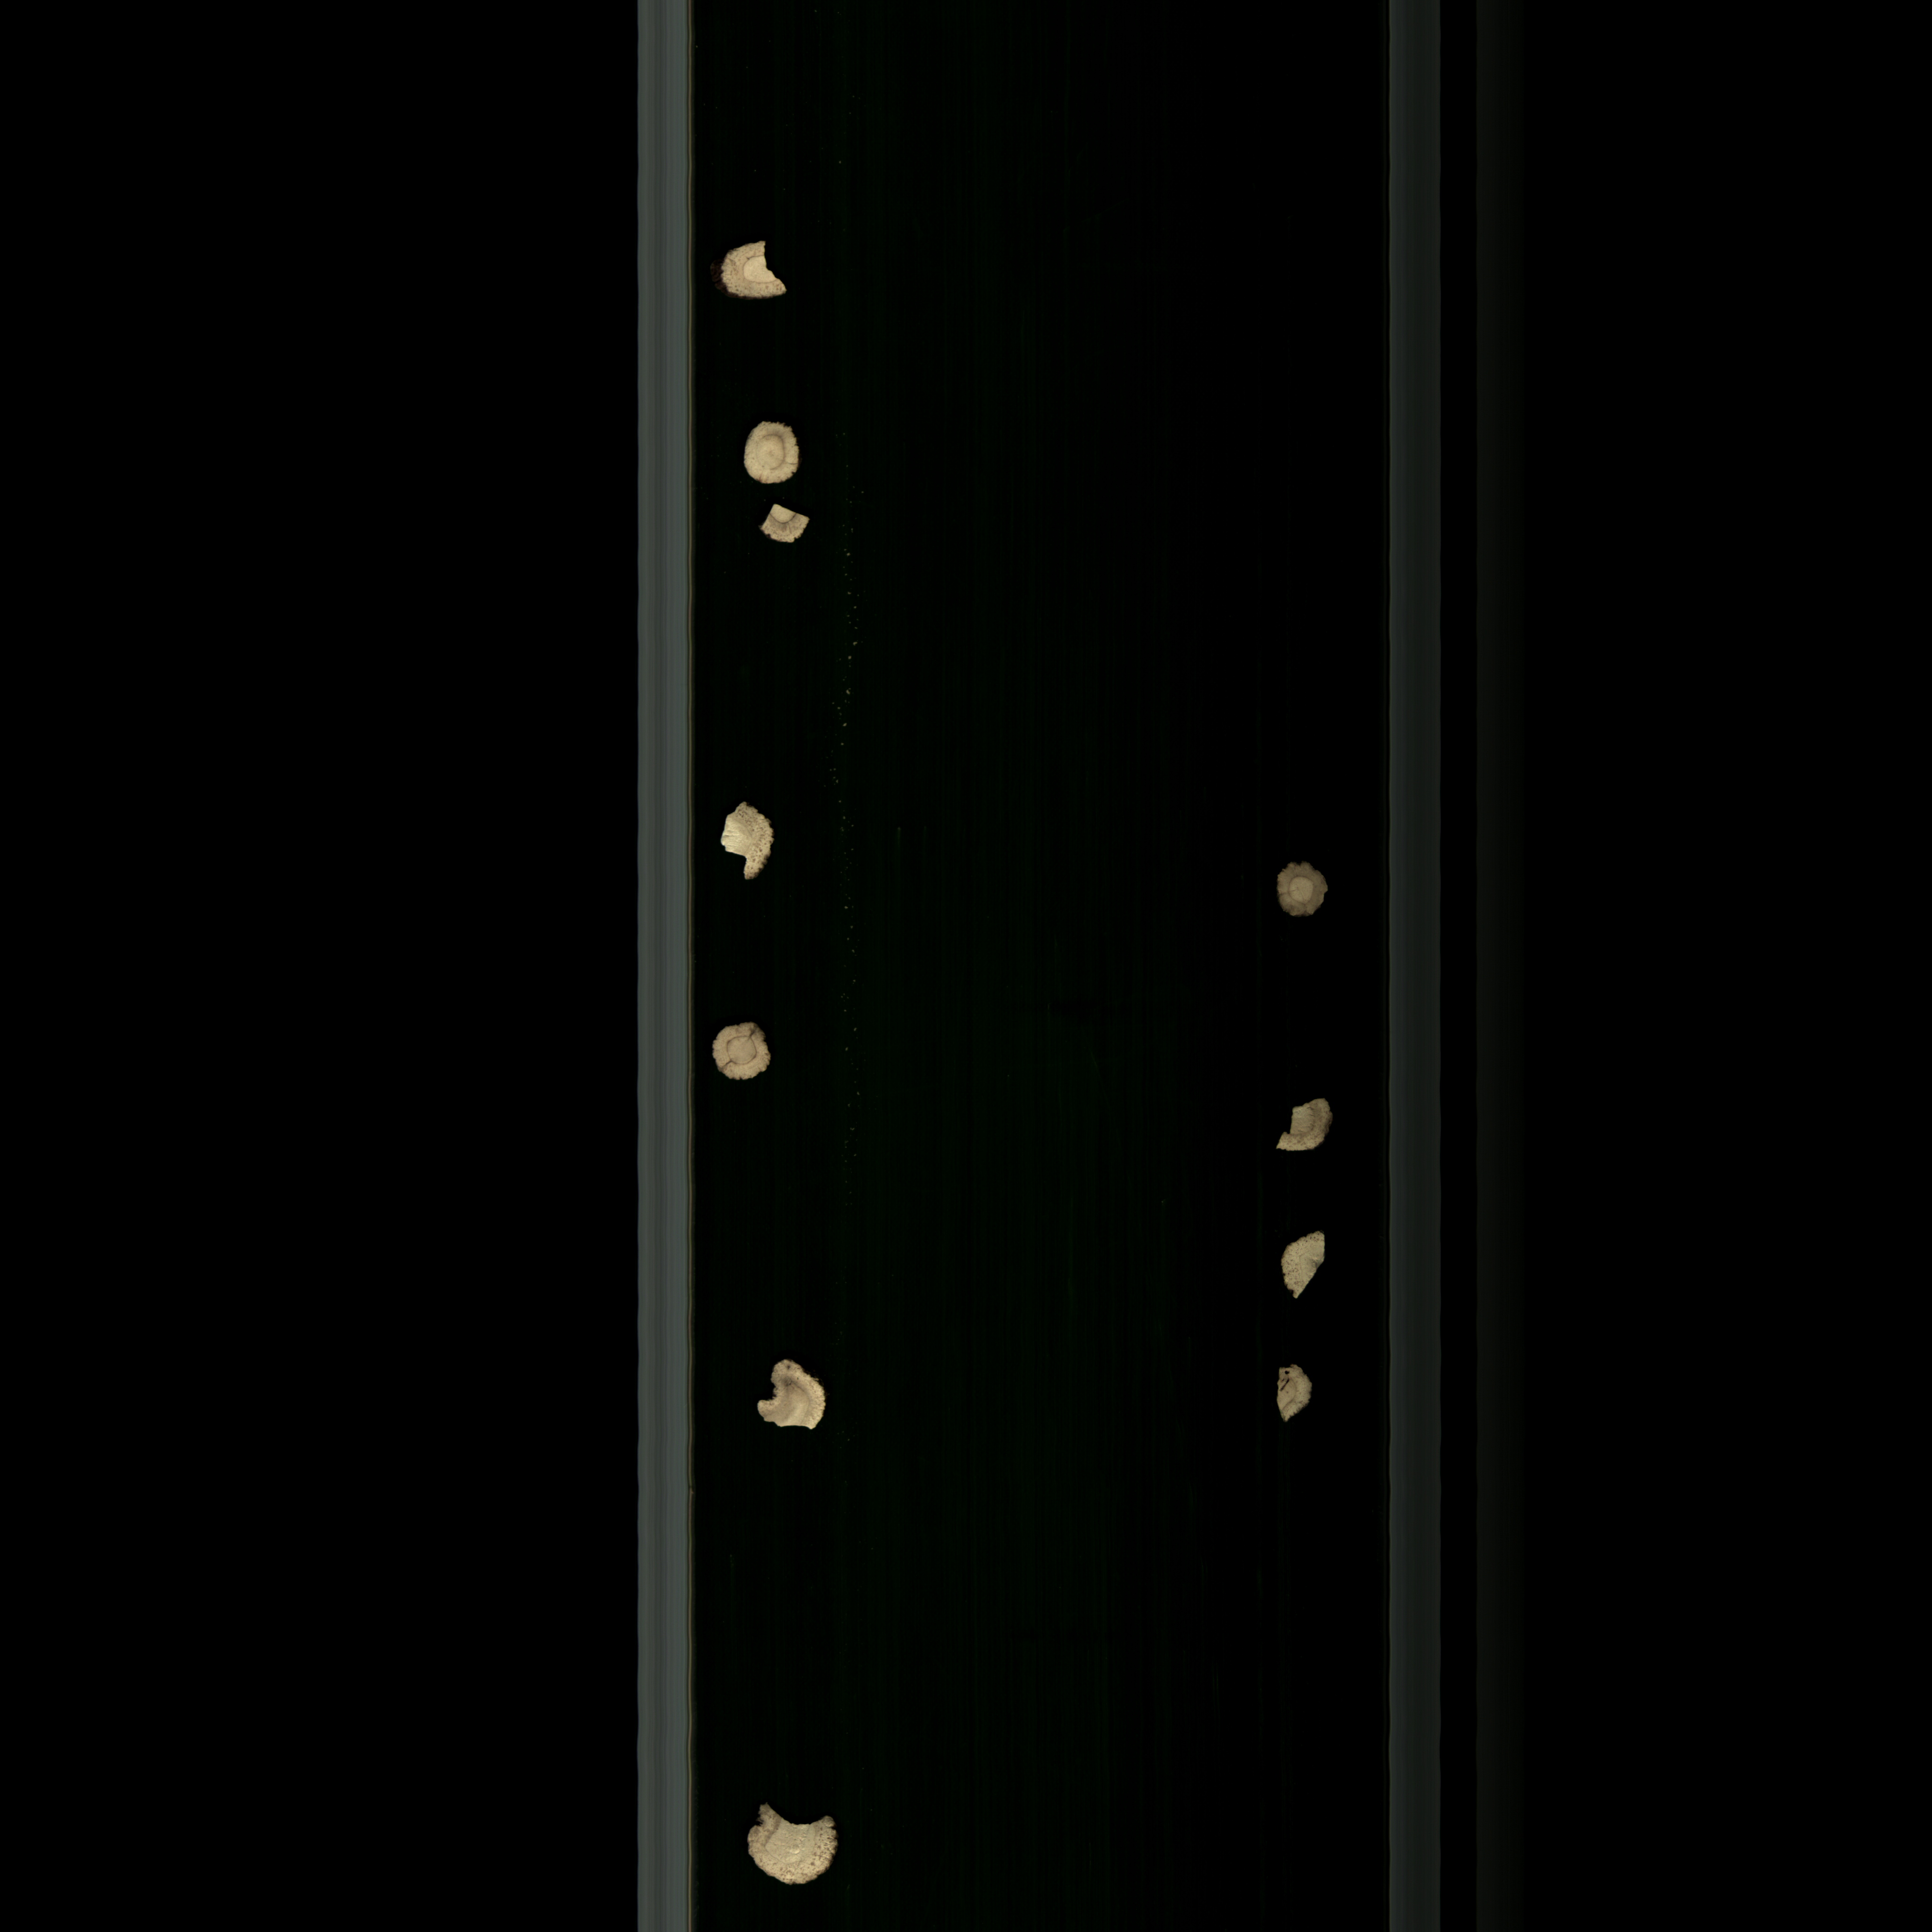debris: (727, 1798, 867, 1900), (706, 234, 809, 310), (713, 791, 787, 888), (757, 1357, 837, 1444), (1263, 1090, 1352, 1159), (1277, 1224, 1332, 1313)
dreg: (752, 501, 819, 557)
moldy: (706, 1008, 784, 1090), (1260, 855, 1343, 931), (1263, 1352, 1325, 1435)
